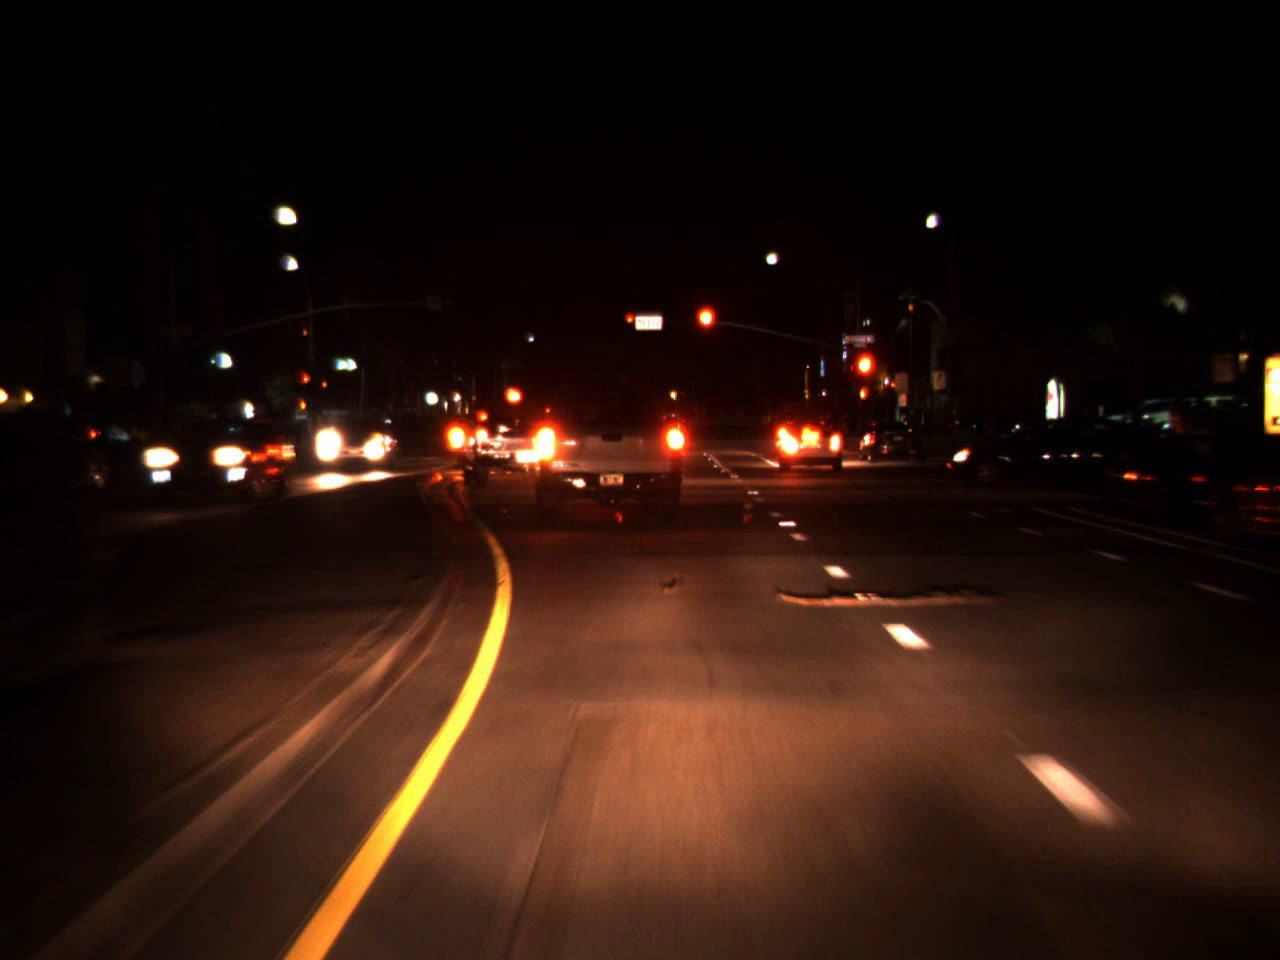stop: (851, 348, 879, 407), (693, 303, 718, 354), (624, 312, 636, 333), (301, 371, 311, 395)
